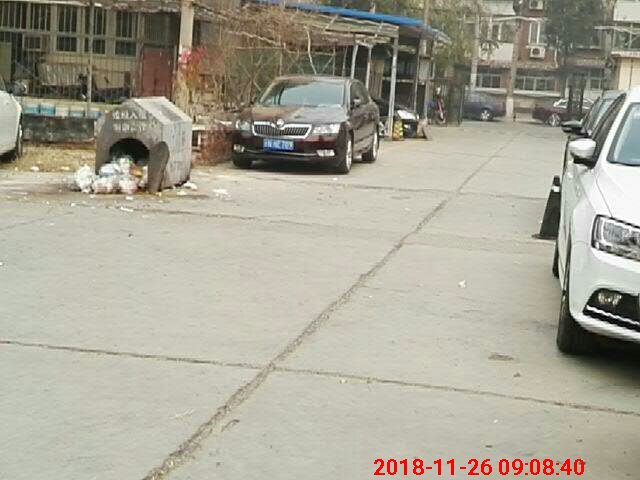trash: (44, 83, 235, 231)
